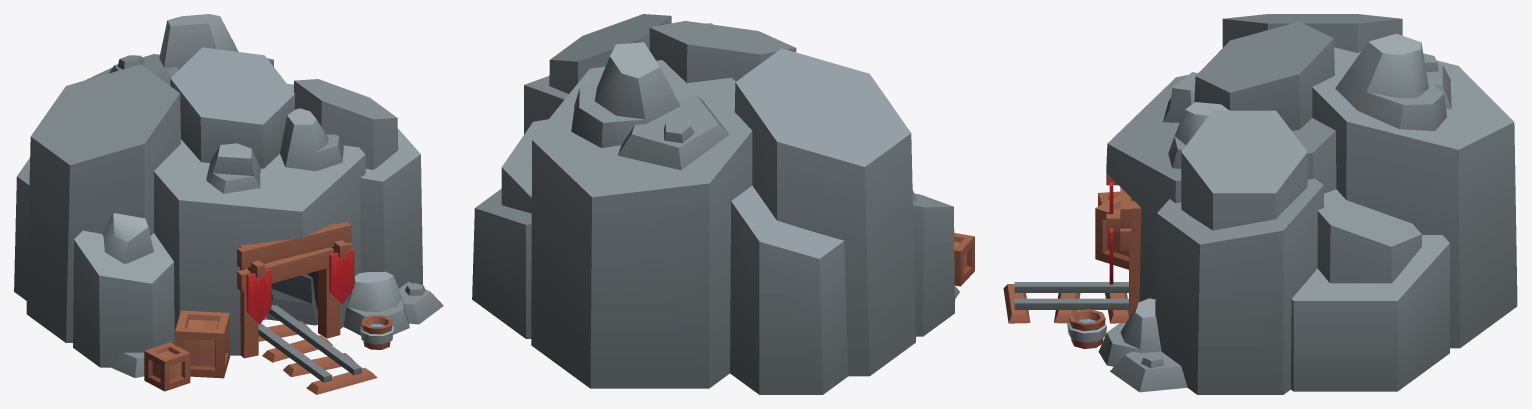
The model's file is mine.glb.
The picture shows the model from 3 angles, left to right: view 1: azimuth 30°, elevation 25°; view 2: azimuth 150°, elevation 25°; view 3: azimuth 270°, elevation 25°; orthographic projection. The views are drawn at different scales.
Parts seen in each view (by area): view 1: building_mine_red; view 2: building_mine_red; view 3: building_mine_red.
Boxes of the visible parts, bbox=[...] form: building_mine_red: bbox=[14, 14, 443, 394]; building_mine_red: bbox=[472, 14, 974, 394]; building_mine_red: bbox=[1003, 14, 1517, 394].
Size of the model in its own units: 1.61 by 1.14 by 1.92.
Materials: 1 (1 with a texture image).
